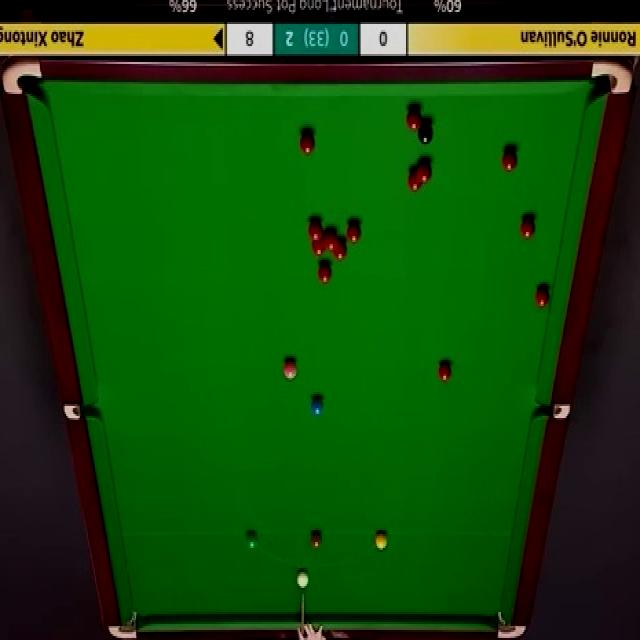pocket: (590, 58, 630, 98), (5, 58, 41, 100), (106, 606, 140, 640), (496, 606, 526, 639), (535, 402, 570, 422), (64, 402, 99, 420)
